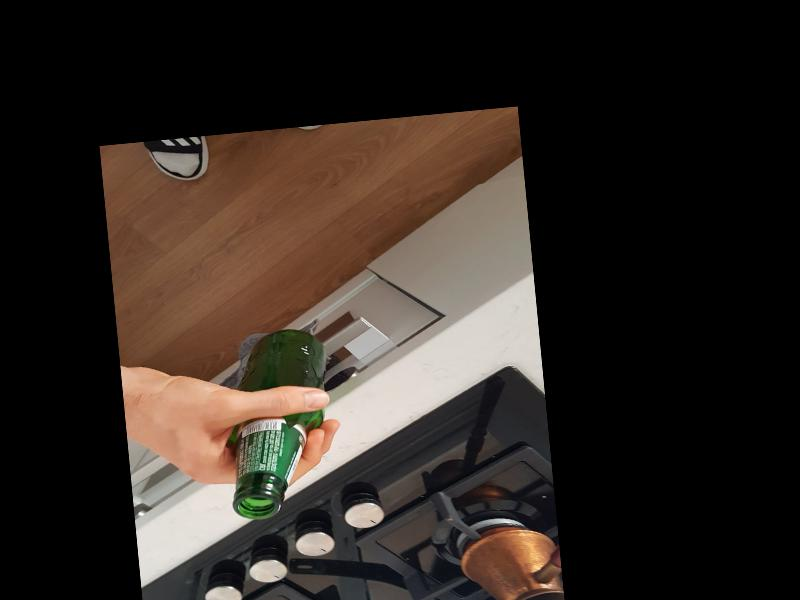Beer: (217, 325, 338, 521)
